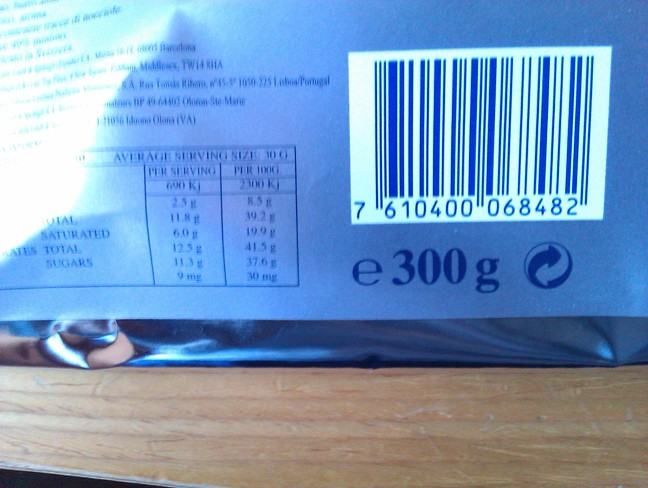barcode: (344, 44, 605, 226)
